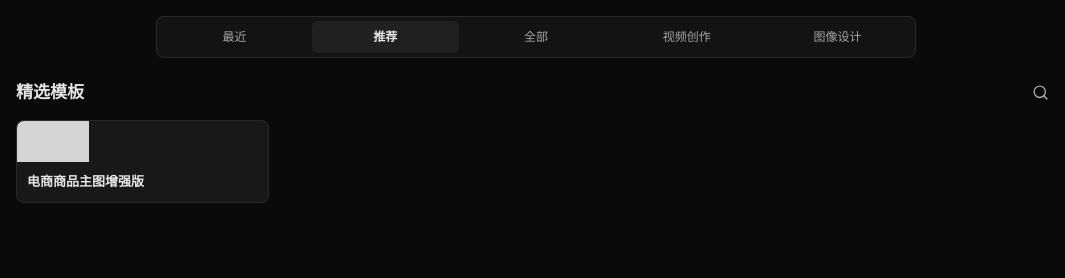
Test: CreatorDashboard › uses one tag at a time and resets with All or a category change
This screenshot has width=1065, height=278.
Click the tab "视频创作".
click(687, 37)  # box [613, 21, 760, 53]
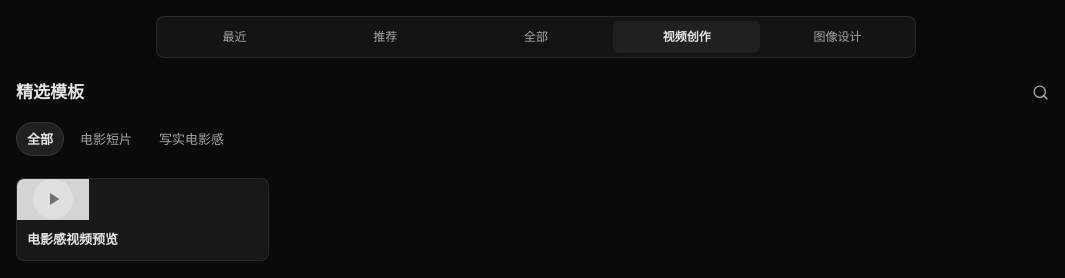
Expected: the button "海报设计" is not shown
Expected: the button "电影短片" is shown
Click the button "电影短片".
click(106, 139)  # box [69, 122, 143, 156]
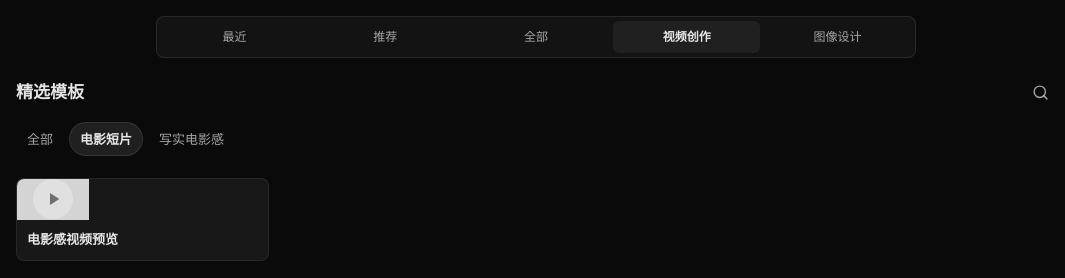
Expected: the button with aria-label "查看电影感视频预览模板详情" is shown, [16, 178, 268, 260]
Click the button "全部".
click(40, 139)  # box [16, 122, 64, 156]
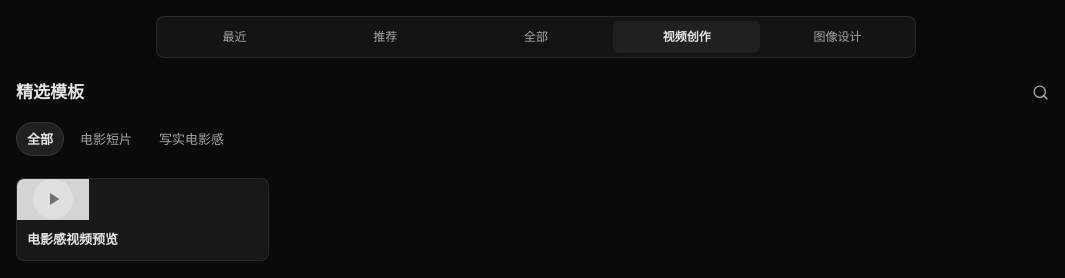
Expected: the tab "视频创作" is selected, [613, 21, 760, 53]
Click the tab "图像设计".
click(838, 37)  # box [764, 21, 911, 53]
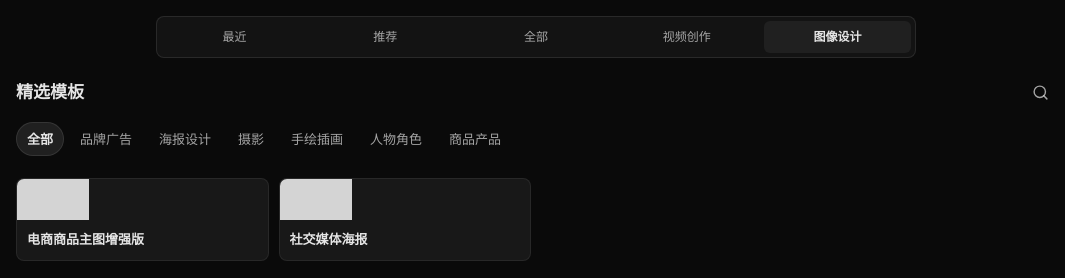
Click the button "商品产品".
click(475, 139)  # box [438, 122, 512, 156]
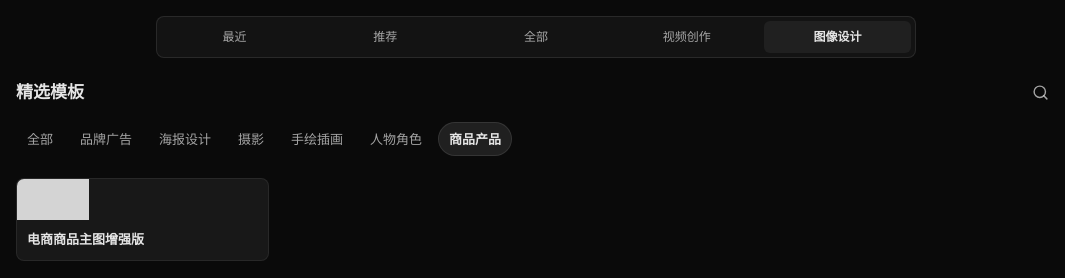
Expected: the button with aria-label "查看电商商品主图增强版模板详情" is shown, [16, 178, 268, 260]
Expected: the button "查看社交媒体海报模板详情" is gone
Click the tab "全部".
click(536, 37)  # box [463, 21, 609, 53]
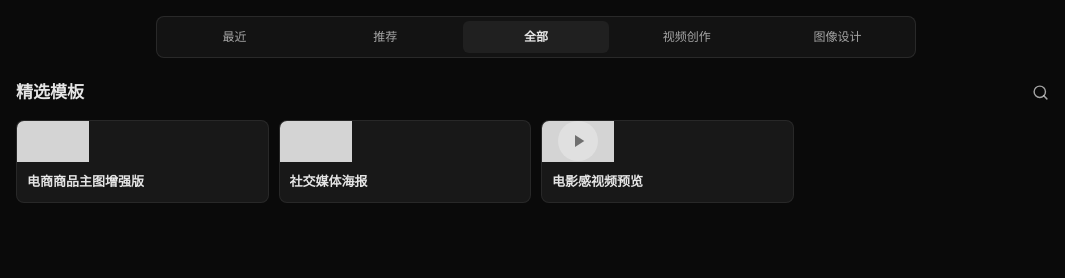
Expected: the button "商品产品" is gone
Expected: the element "筛选模板" is gone
Expected: the button with aria-label "查看社交媒体海报模板详情" is shown, [278, 120, 531, 202]
